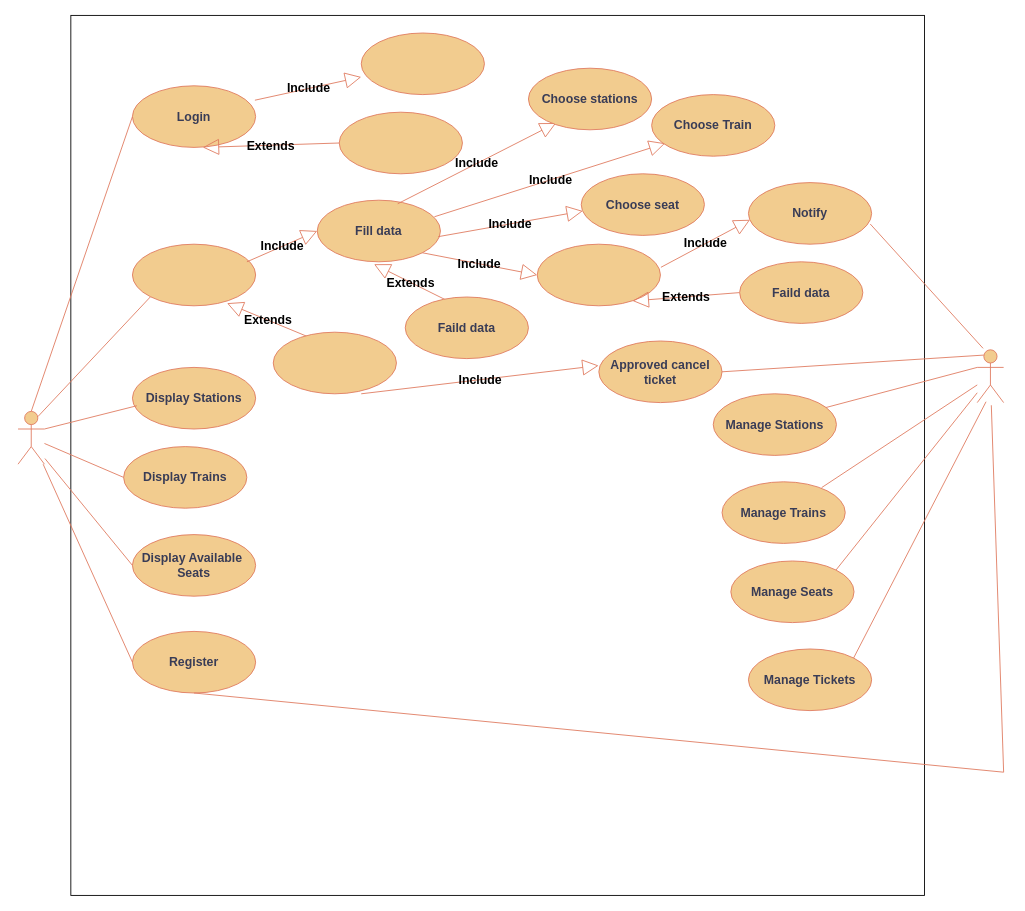
The diagram is 1025 pixels wide and 911 high, and some of its shapes have lost their labels. The centre of each missing label's shape, as x and y in pixels:
Actor: (30,437)
Admin: (990,376)
Buy Ticket: (194,274)
Cancel ticket: (334,362)
Check login: (422,63)
Faild: (400,142)
Payment data: (598,274)
